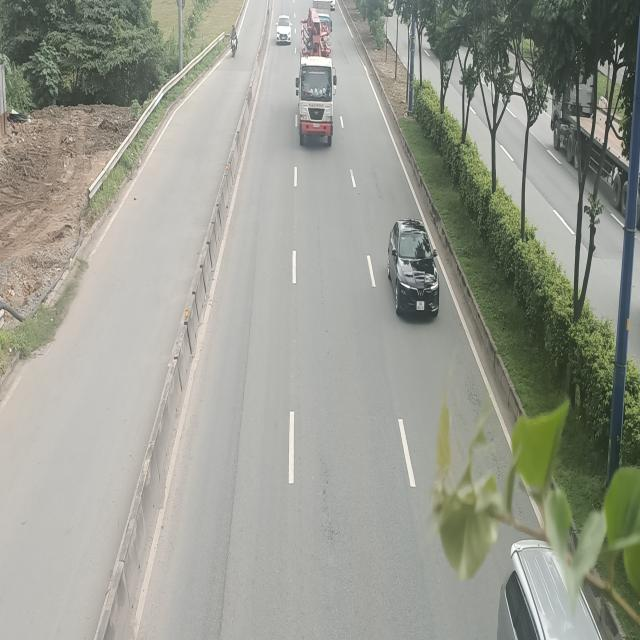car: (388, 221, 441, 320), (276, 13, 292, 43)
container: (295, 11, 336, 148)
